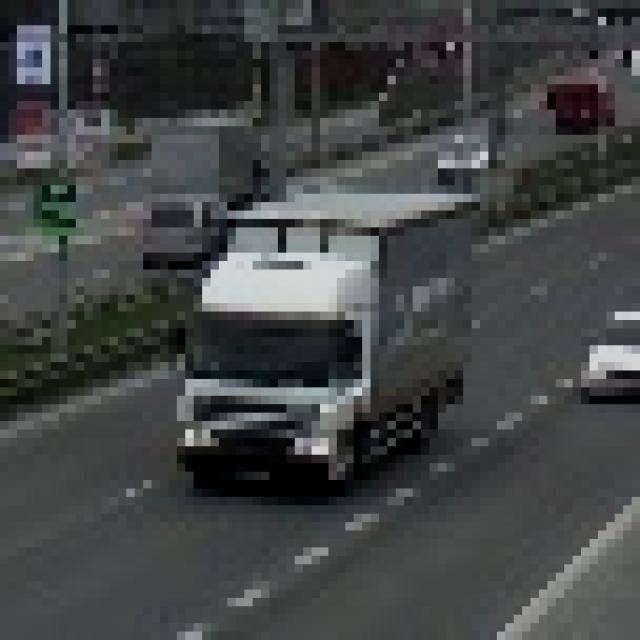truck: (161, 178, 473, 472)
